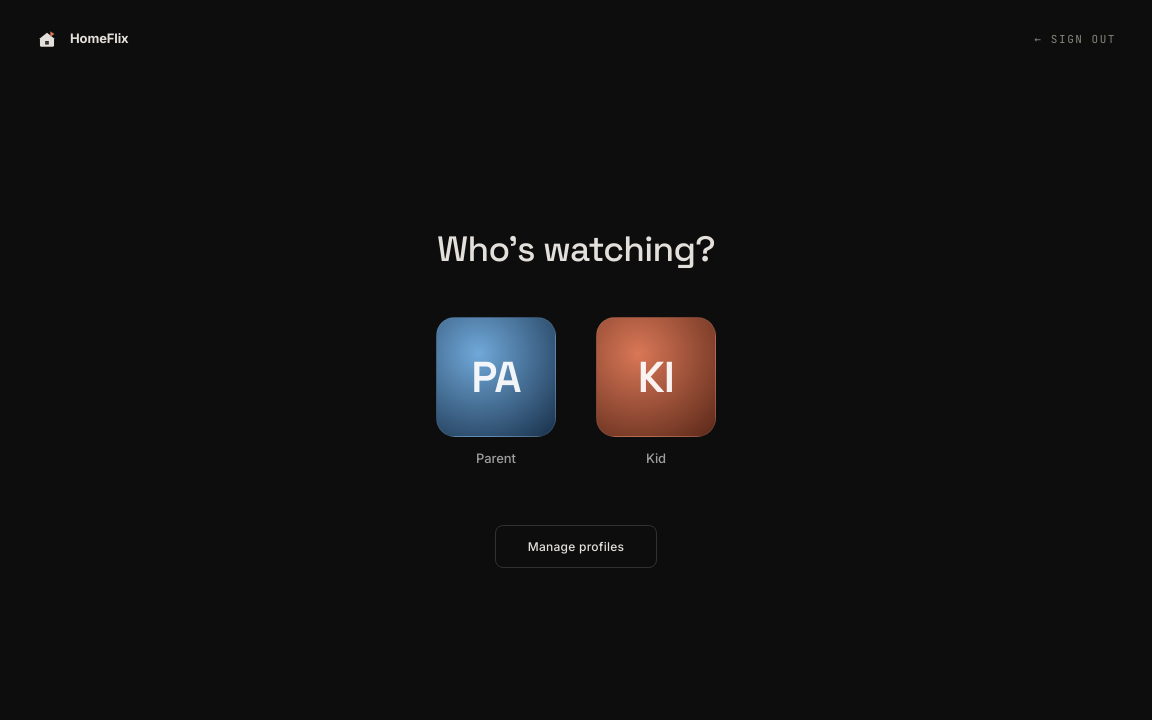
Test: Profiles — switch behind the parental PIN › reports a retry refused again and does not reopen the challenge
This screenshot has width=1152, height=720.
Click the button with aria-label "Sign in as Parent".
click(496, 393)  # box [436,317,556,469]
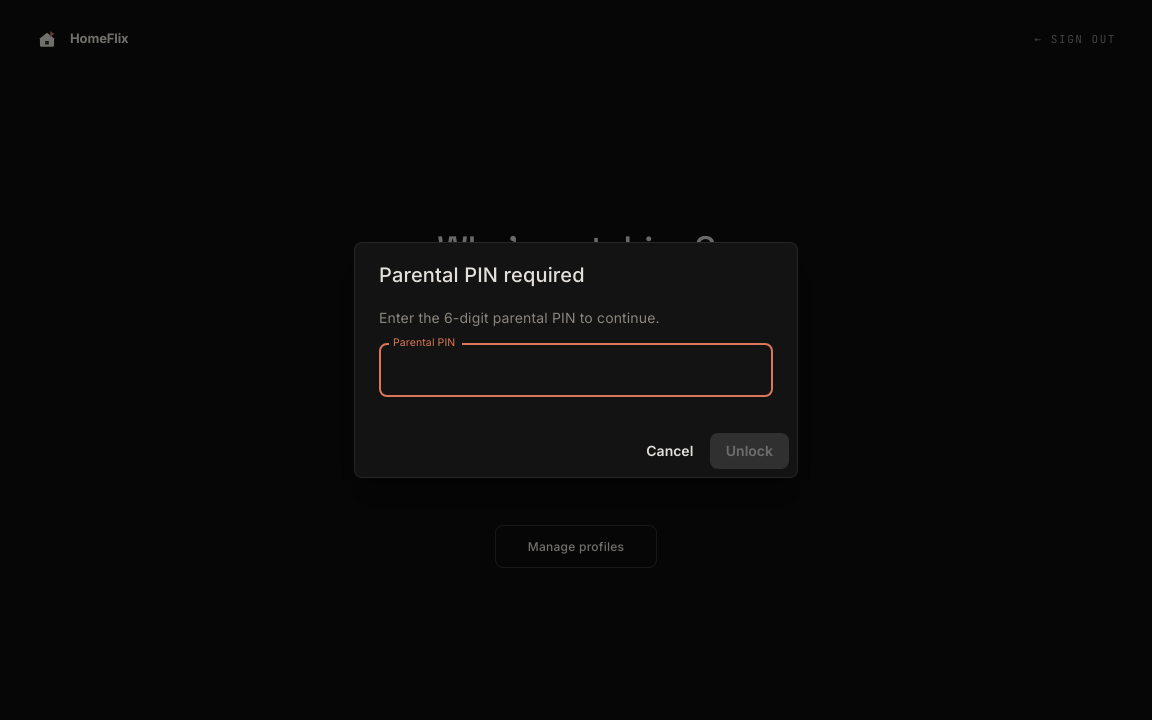
Type "123456" into the field labelled "Parental PIN".
click(576, 370); type("123456")  # box [379,344,773,397]
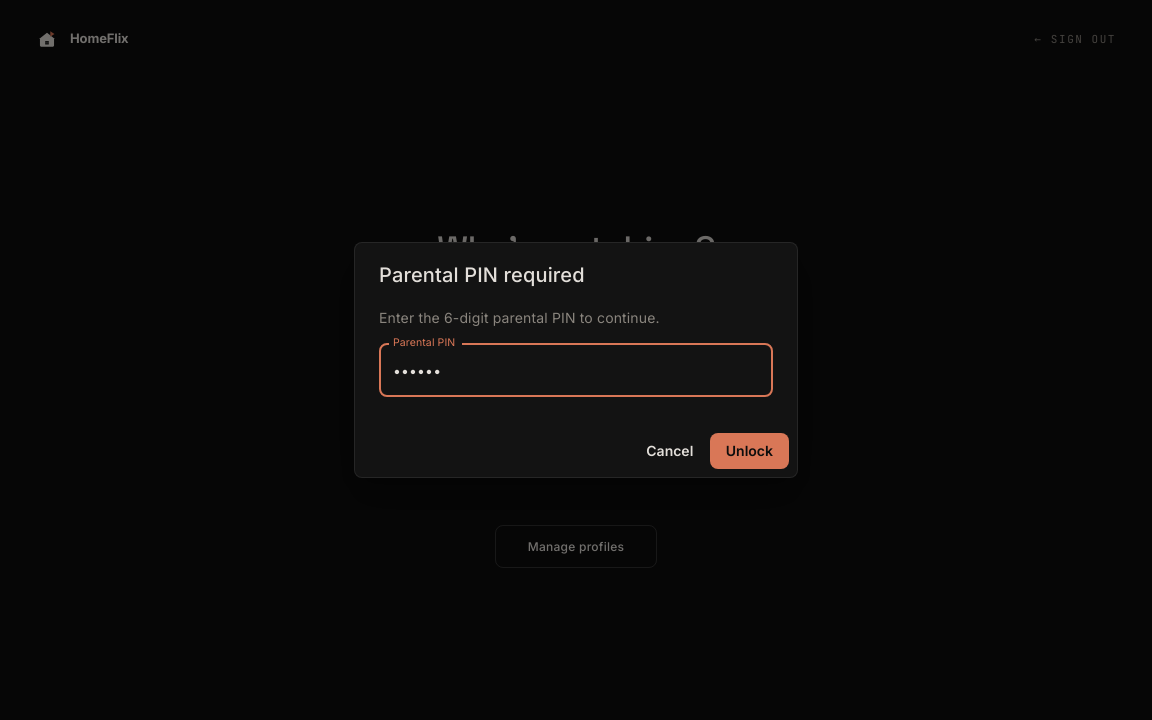
Click the button "Unlock".
click(749, 451)  # box [710,433,789,469]
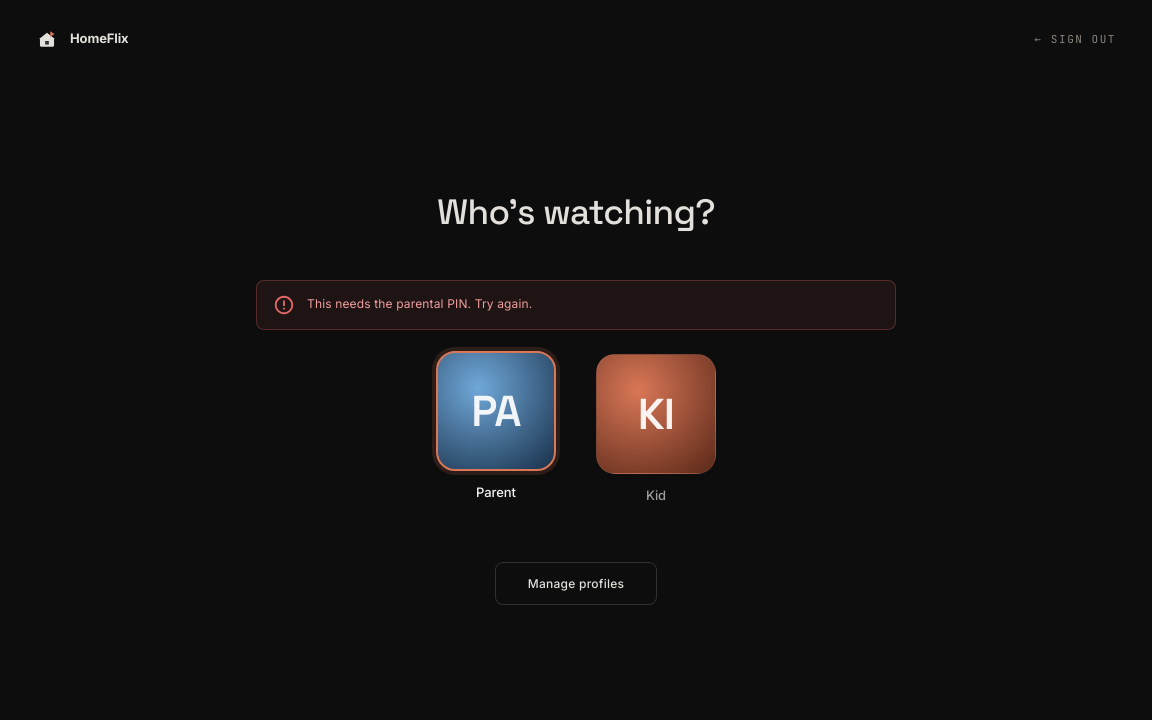
Check: the text "This needs the parental PIN. Try again." is shown, box [307,296,532,311]
Check: the heading "Parental PIN required" is gone
Check: the field "backend text" is gone
